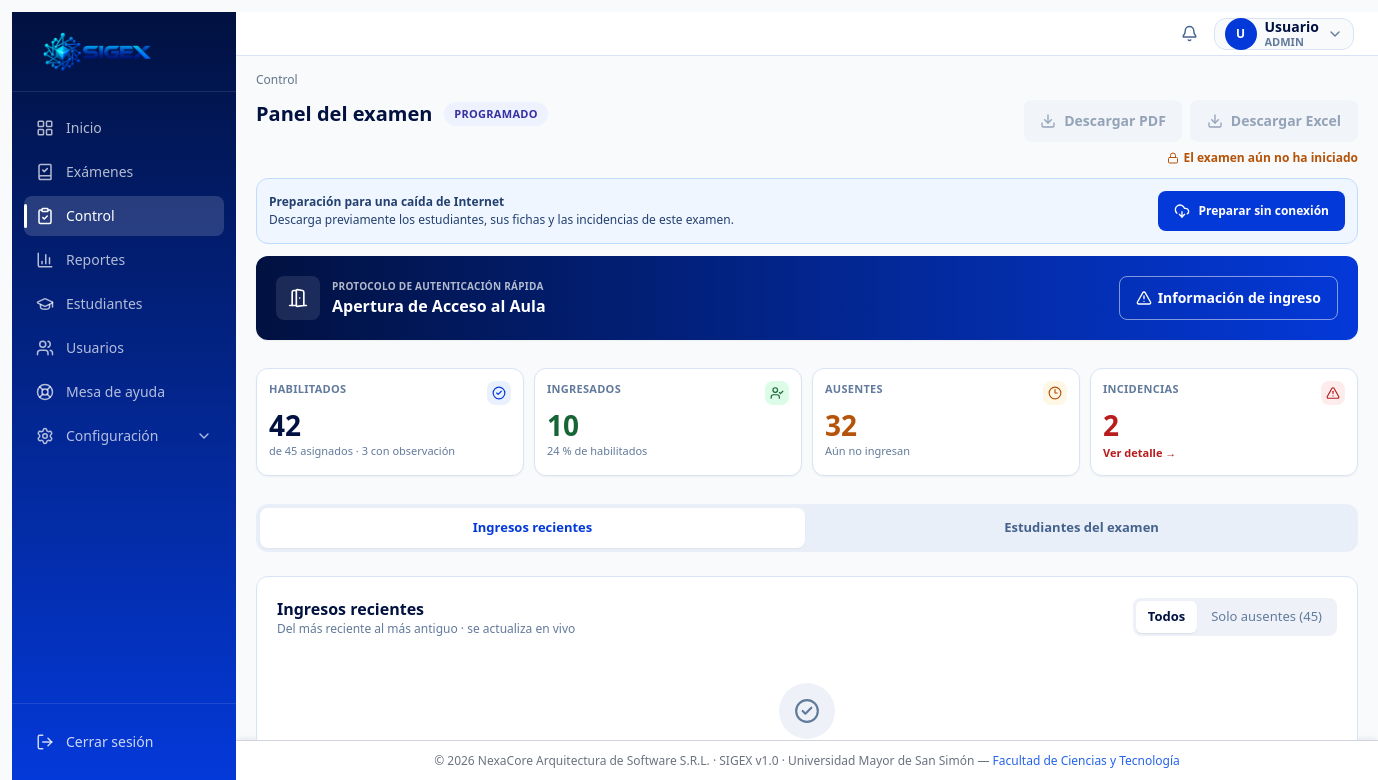
Test: ControlExamenPage › modal de Reasignar › cierra y descarta la selección al cambiar de página
This screenshot has width=1378, height=780.
Later steps or results of the test are not shown.
Click the tab "Estudiantes del examen" at (1082, 528), box [809,508,1354,548]
(page scrolled)
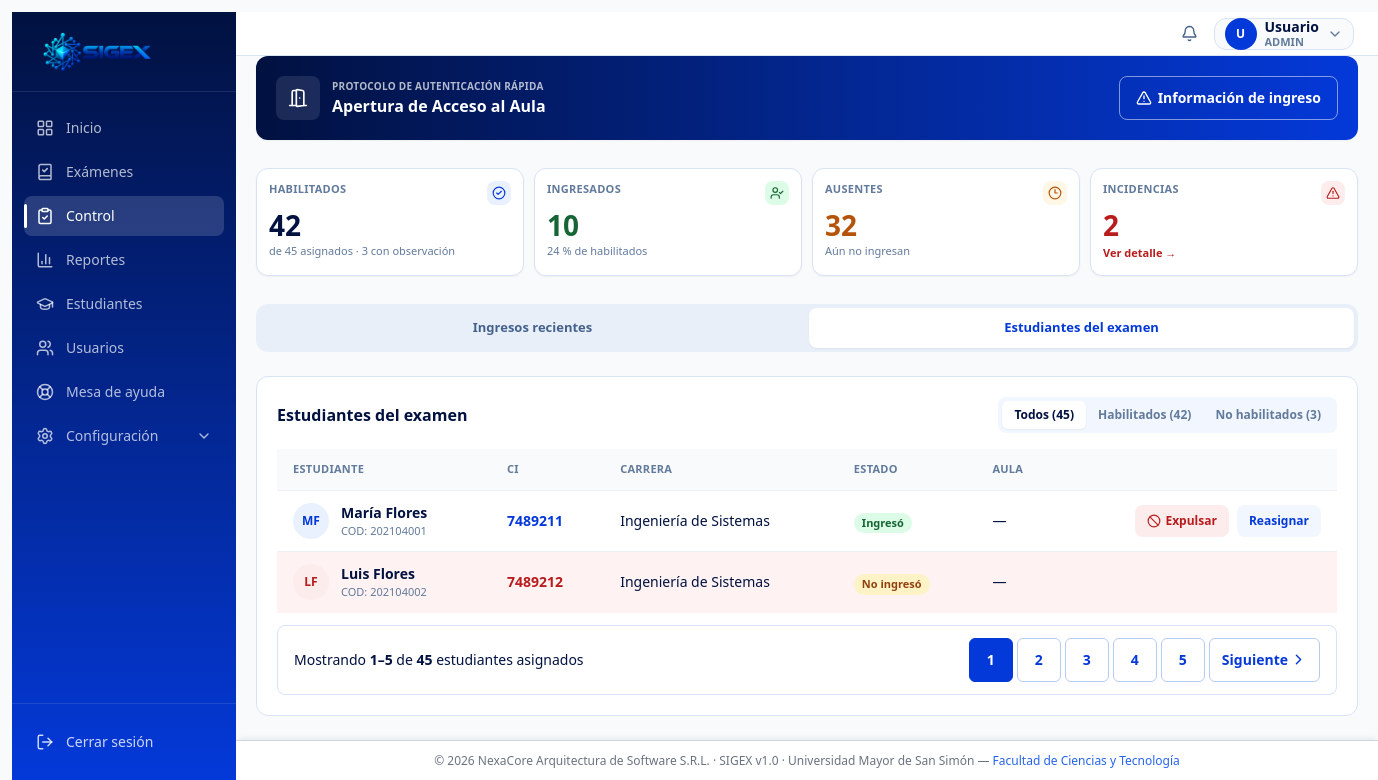
Click the button named "Ir a la página 2" at (1039, 660), box [1017,638,1061,682]
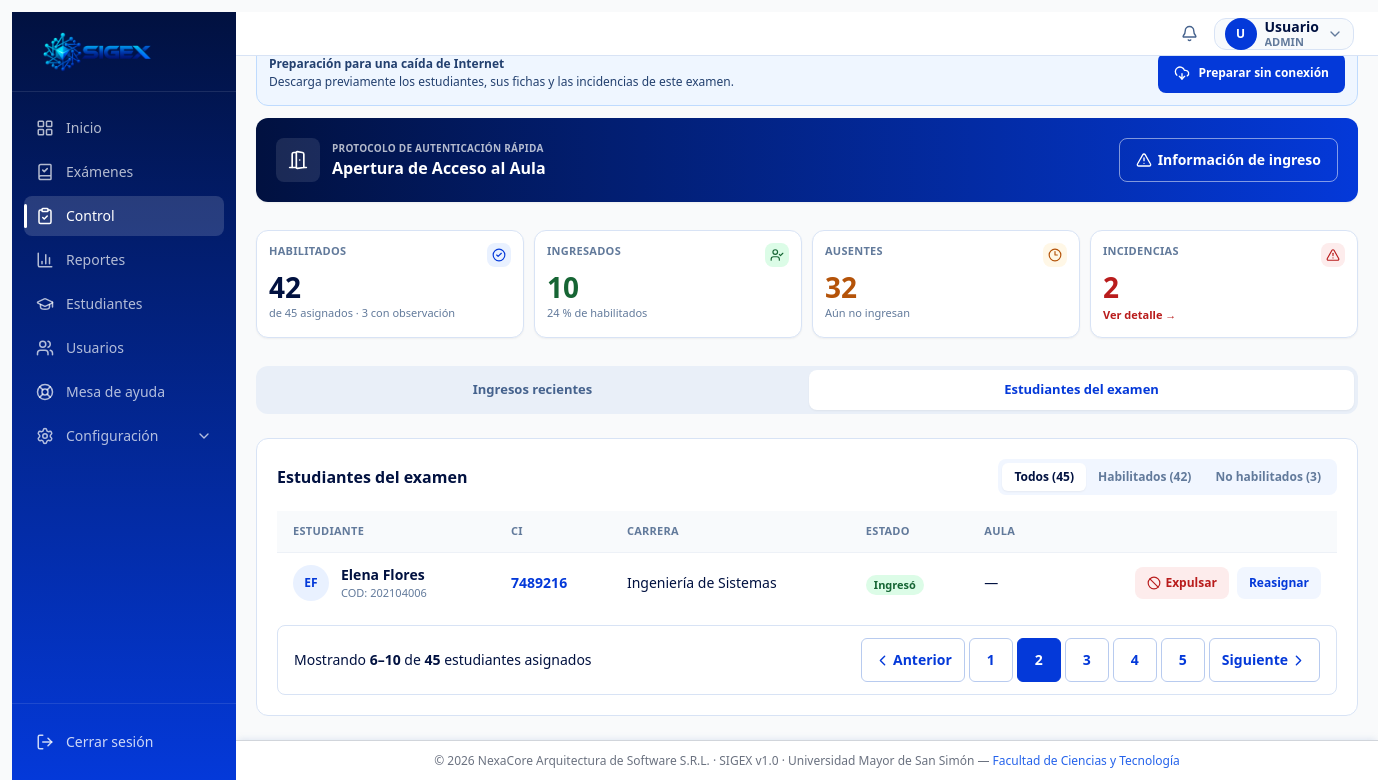
Expected: the text "Elena Flores" is shown, [341,564,427,584]
Click the button "Reasignar" at (1279, 583), box [1237,567,1321,599]
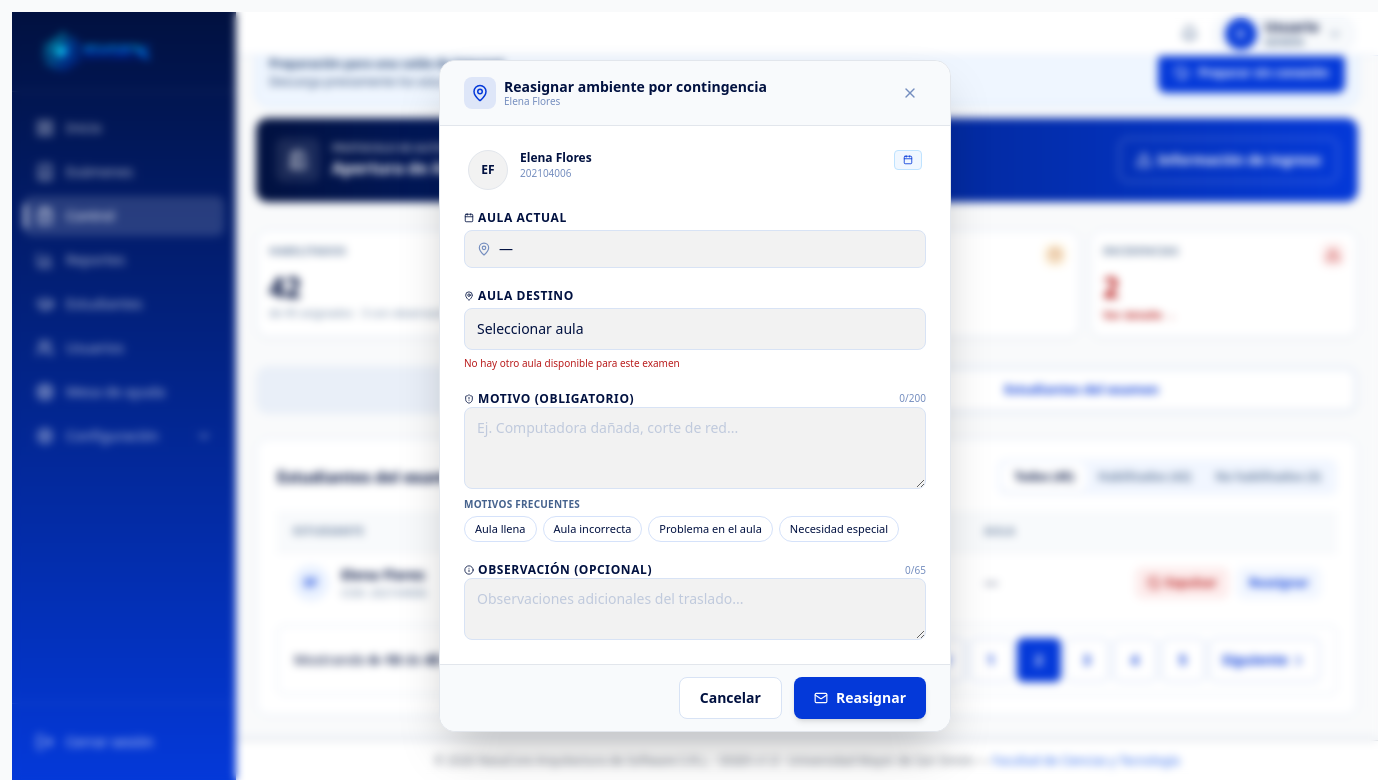
Expected: the heading "Reasignar ambiente por contingencia" is shown, [504,78,767,95]
